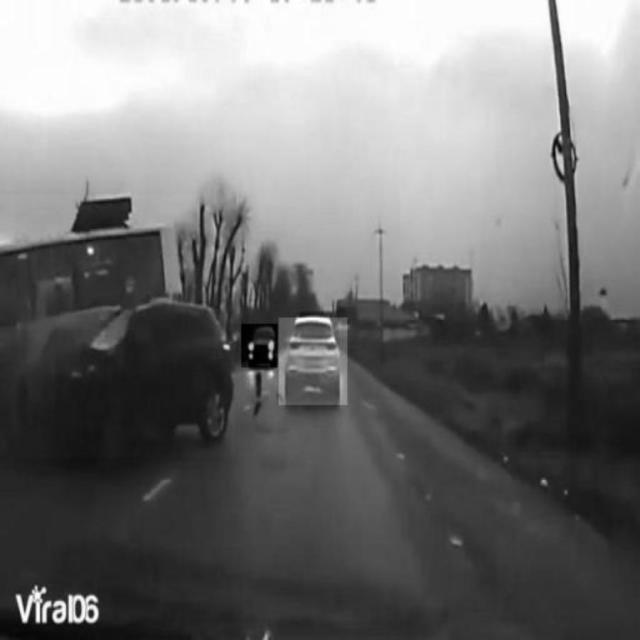accident: (0, 195, 234, 458)
vehicle: (279, 317, 347, 405), (242, 324, 278, 368)
